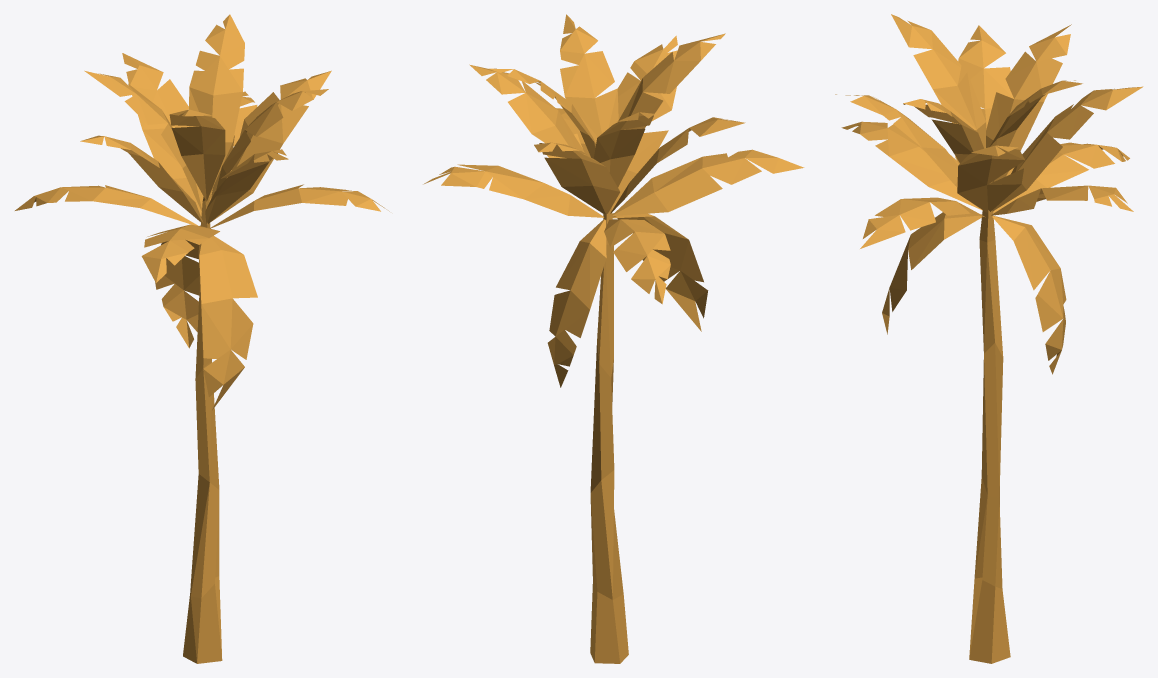
The model's file is palm-high.fbx.
3 renders of one model, left to right at view 1: azimuth 30°, elevation 25°; view 2: azimuth 150°, elevation 25°; view 3: azimuth 270°, elevation 25°, orthographic. The views are drawn at different scales.
Parts seen in each view (by area): view 1: palm-high; view 2: palm-high; view 3: palm-high.
Part boxes in pixels (x1,y1,x2,y2): palm-high: (15,14,389,663); palm-high: (423,14,804,663); palm-high: (835,14,1143,663).
Bounding box in the file's own units: 5.81 × 12.54 × 5.81.
